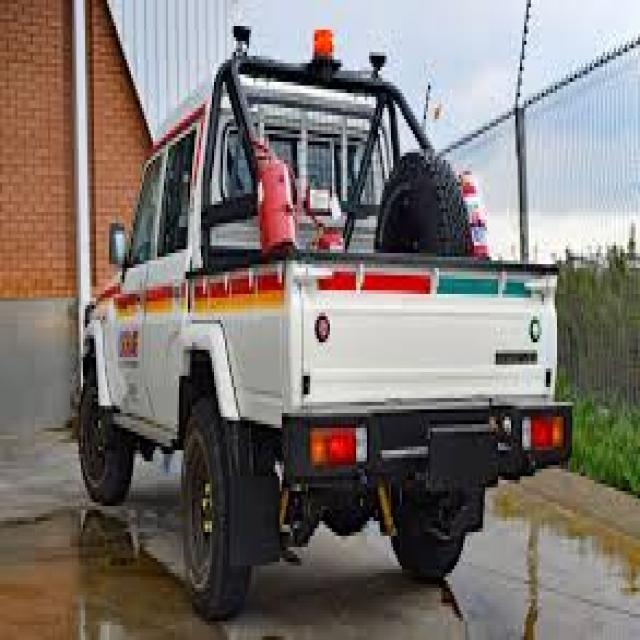light_vehicle: (54, 37, 574, 614)
